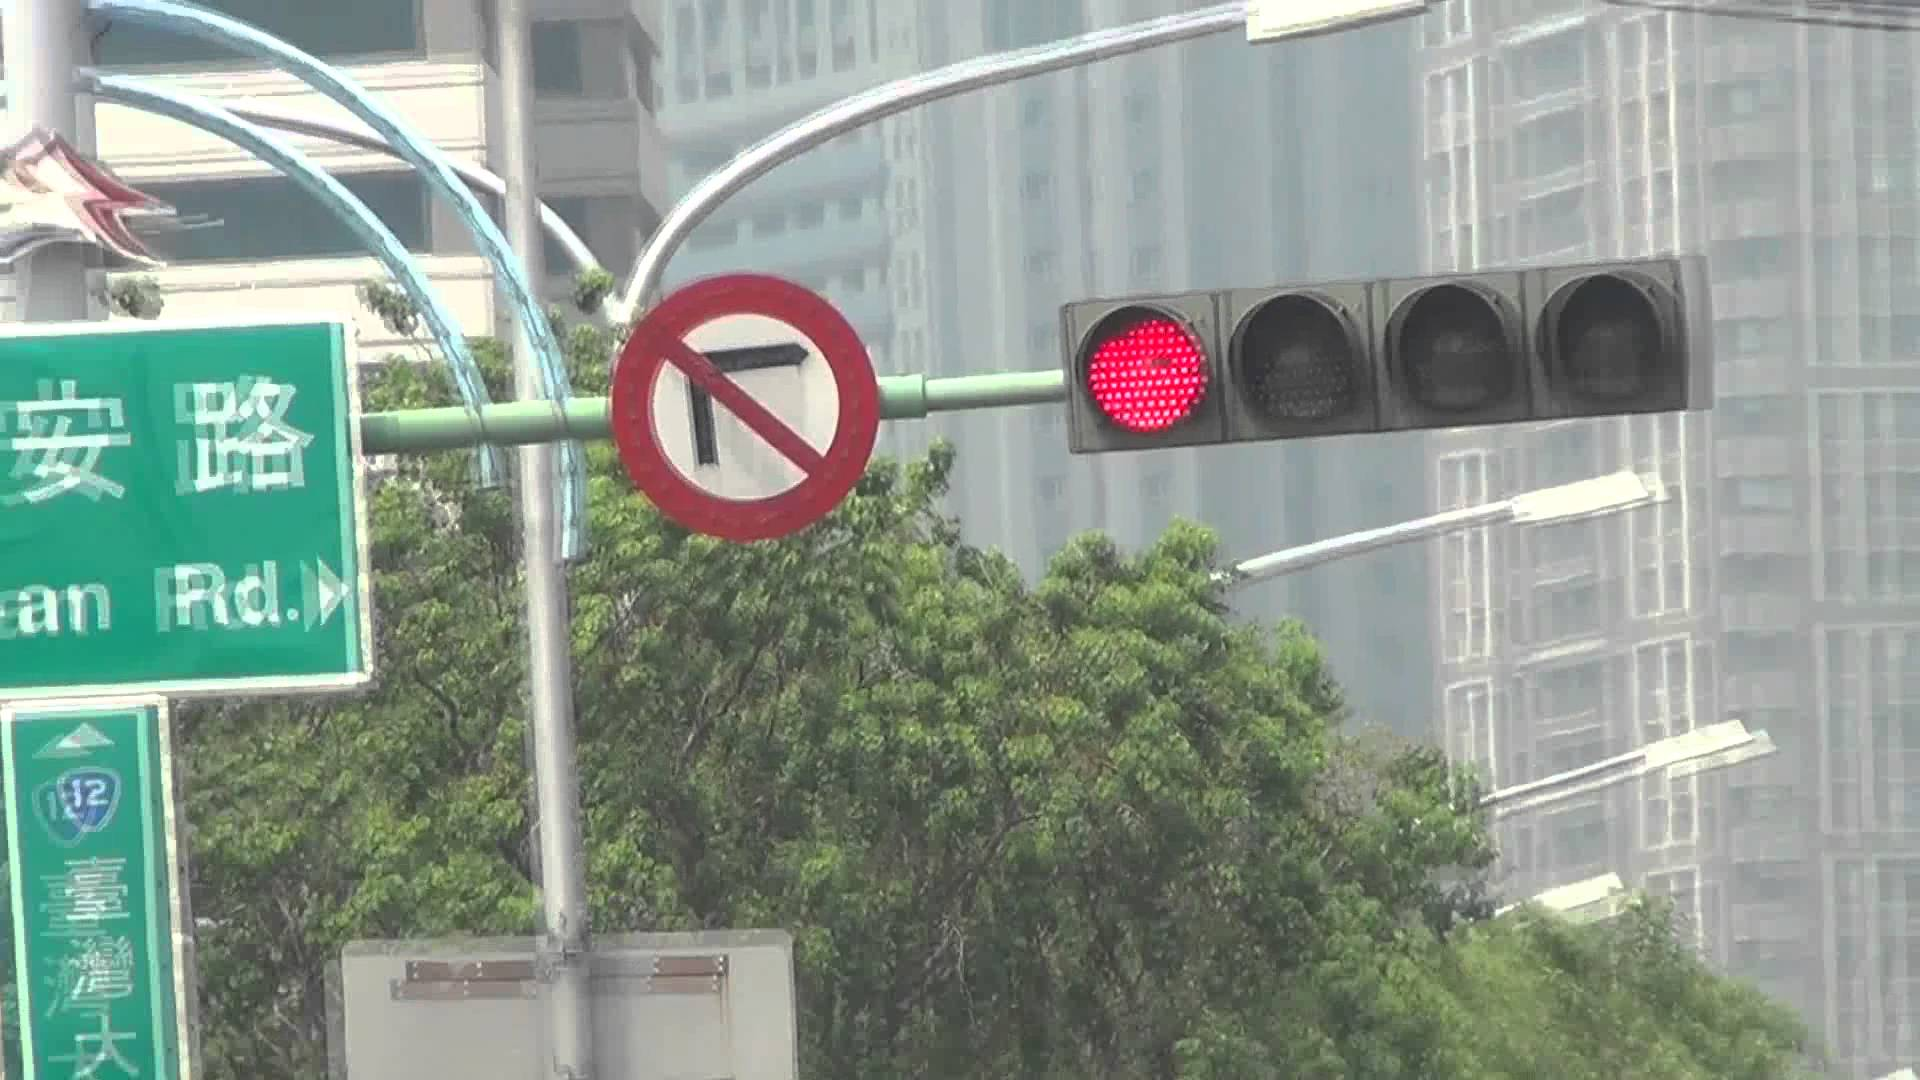No_right_turn: (611, 266, 882, 545)
